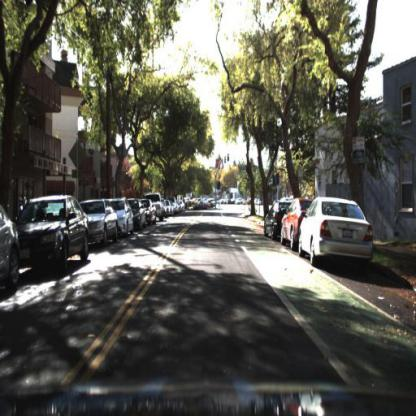car: (15, 193, 89, 278), (298, 198, 376, 266), (1, 201, 22, 300), (79, 200, 120, 249), (280, 198, 318, 249), (113, 195, 136, 239), (265, 204, 286, 242), (130, 197, 148, 232), (139, 196, 158, 223), (148, 193, 165, 223)
